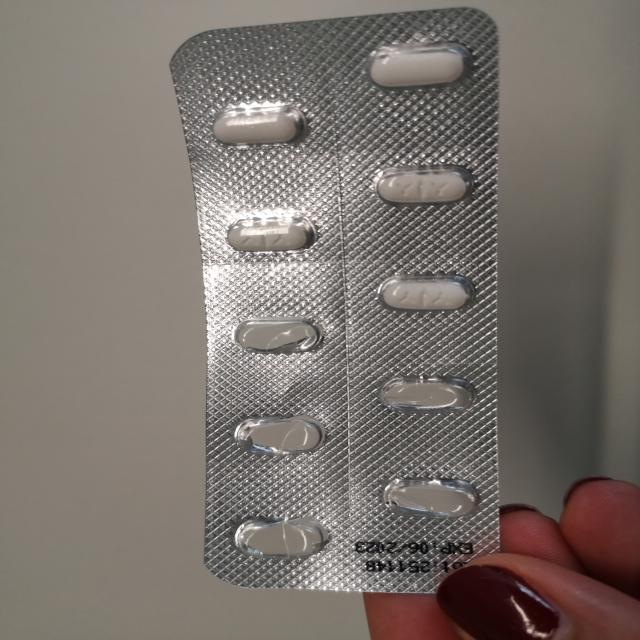Empty: (376, 472, 484, 524), (226, 512, 332, 560), (227, 412, 330, 461), (372, 372, 477, 418), (226, 316, 330, 357)
Pill: (362, 42, 471, 92), (367, 161, 477, 208), (374, 269, 483, 316), (204, 105, 314, 149), (221, 215, 323, 256)
